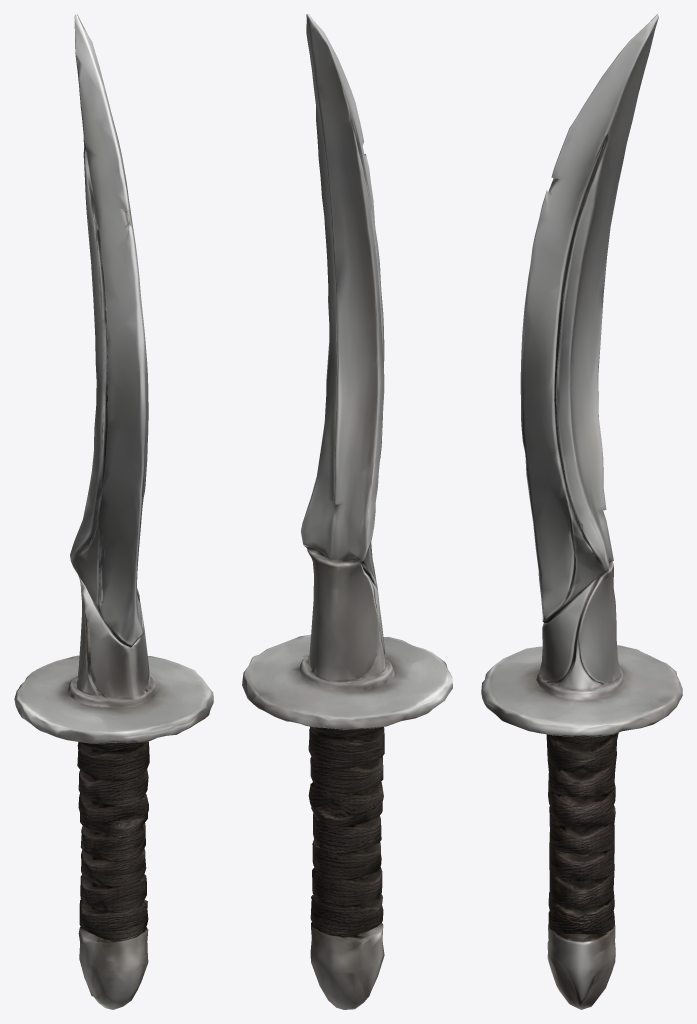
The model's file is w_pilgrim_blades.glb.
The picture shows the model from 3 angles, left to right: view 1: azimuth 30°, elevation 25°; view 2: azimuth 150°, elevation 25°; view 3: azimuth 270°, elevation 25°; orthographic projection. The views are drawn at different scales.
Parts seen in each view (by area): view 1: tripo_node_b887d4d3-5b42-4534-a56d-7998cc6271a3; view 2: tripo_node_b887d4d3-5b42-4534-a56d-7998cc6271a3; view 3: tripo_node_b887d4d3-5b42-4534-a56d-7998cc6271a3.
Part boxes in pixels (x1=…): tripo_node_b887d4d3-5b42-4534-a56d-7998cc6271a3: x1=14, y1=14, x2=213, y2=1009; tripo_node_b887d4d3-5b42-4534-a56d-7998cc6271a3: x1=242, y1=14, x2=452, y2=1009; tripo_node_b887d4d3-5b42-4534-a56d-7998cc6271a3: x1=481, y1=14, x2=682, y2=1009.
Bounding box in the file's own units: 0.1862 × 1 × 0.1842.
Materials: 1 (1 with a texture image).
